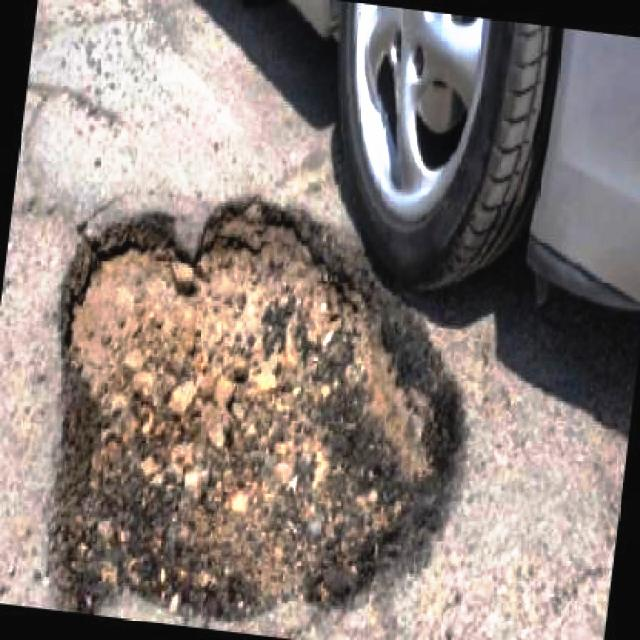pothole: (31, 184, 466, 636)
